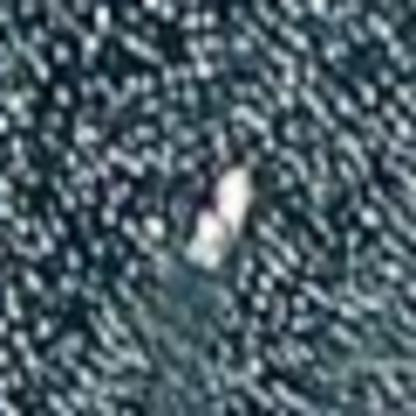ship: (167, 156, 264, 269)
